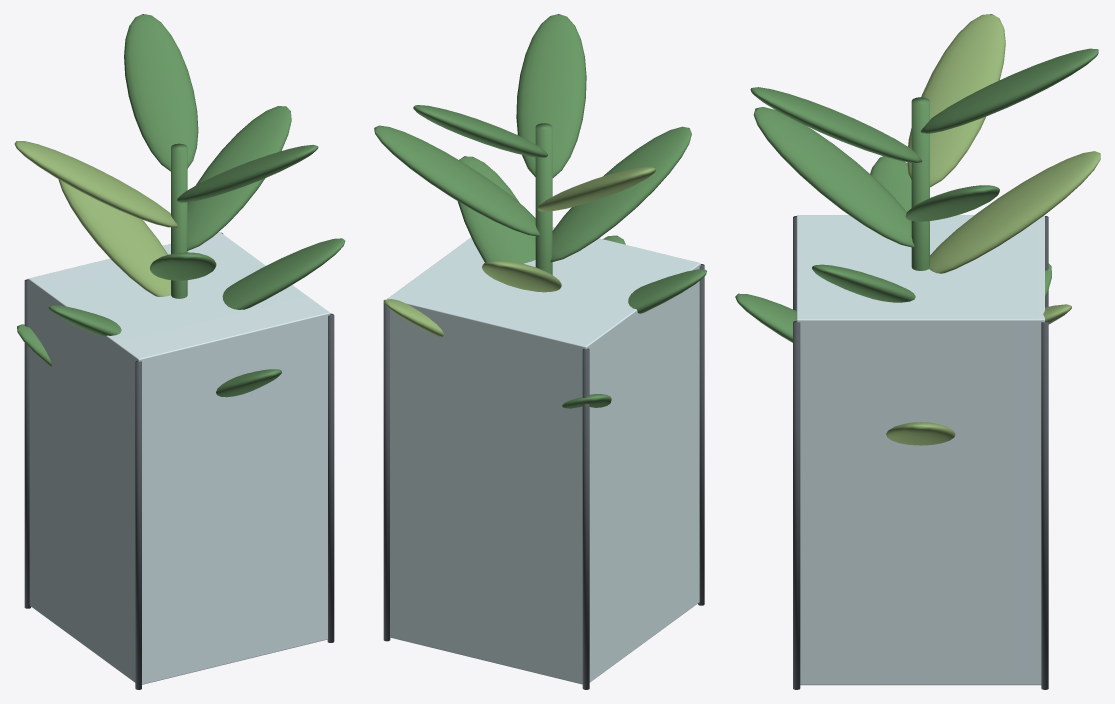
Rendered from atelier-terrarium.glb.
The picture shows the model from 3 angles, left to right: view 1: azimuth 30°, elevation 25°; view 2: azimuth 150°, elevation 25°; view 3: azimuth 270°, elevation 25°; orthographic projection. The views are drawn at different scales.
Parts seen in each view (by area): view 1: glass.012, leaf.018, leafLight.014, metal.091; view 2: glass.012, leaf.018, metal.091, leafLight.014; view 3: glass.012, leaf.018, leafLight.014, metal.091.
Boxes of the visible parts, bbox=[...] form: glass.012: bbox=[28, 232, 330, 684]; leaf.018: bbox=[17, 14, 345, 397]; leafLight.014: bbox=[14, 141, 177, 296]; metal.091: bbox=[24, 232, 334, 689]; glass.012: bbox=[387, 227, 700, 684]; leaf.018: bbox=[374, 14, 706, 408]; metal.091: bbox=[383, 264, 704, 689]; leafLight.014: bbox=[383, 167, 655, 336]; glass.012: bbox=[796, 215, 1044, 685]; leaf.018: bbox=[735, 48, 1098, 342]; leafLight.014: bbox=[886, 14, 1100, 445]; metal.091: bbox=[793, 216, 1048, 689].
Bounding box in the file's own units: 0.5954 × 1.08 × 0.5885.
